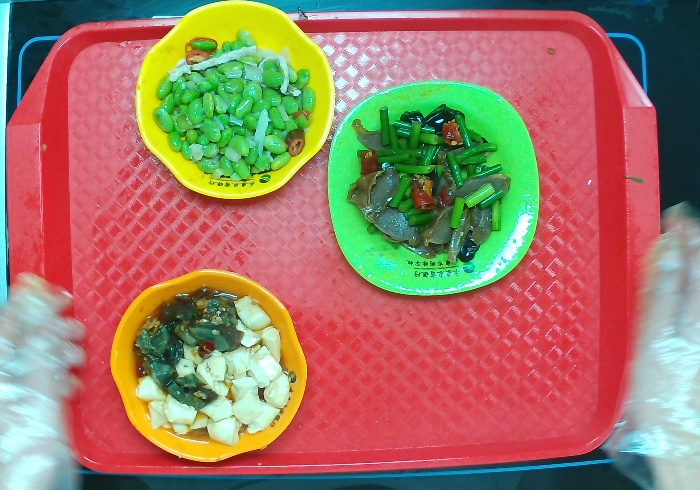YKMZ-Huang_Se_Ao_Bian_Wan: (127, 1, 342, 212)
YKMZ-Ju_Se_Ao_Bian_Wan: (108, 257, 316, 471)
YKMZ-Lv_Se_Fang_Die: (319, 69, 545, 306)
